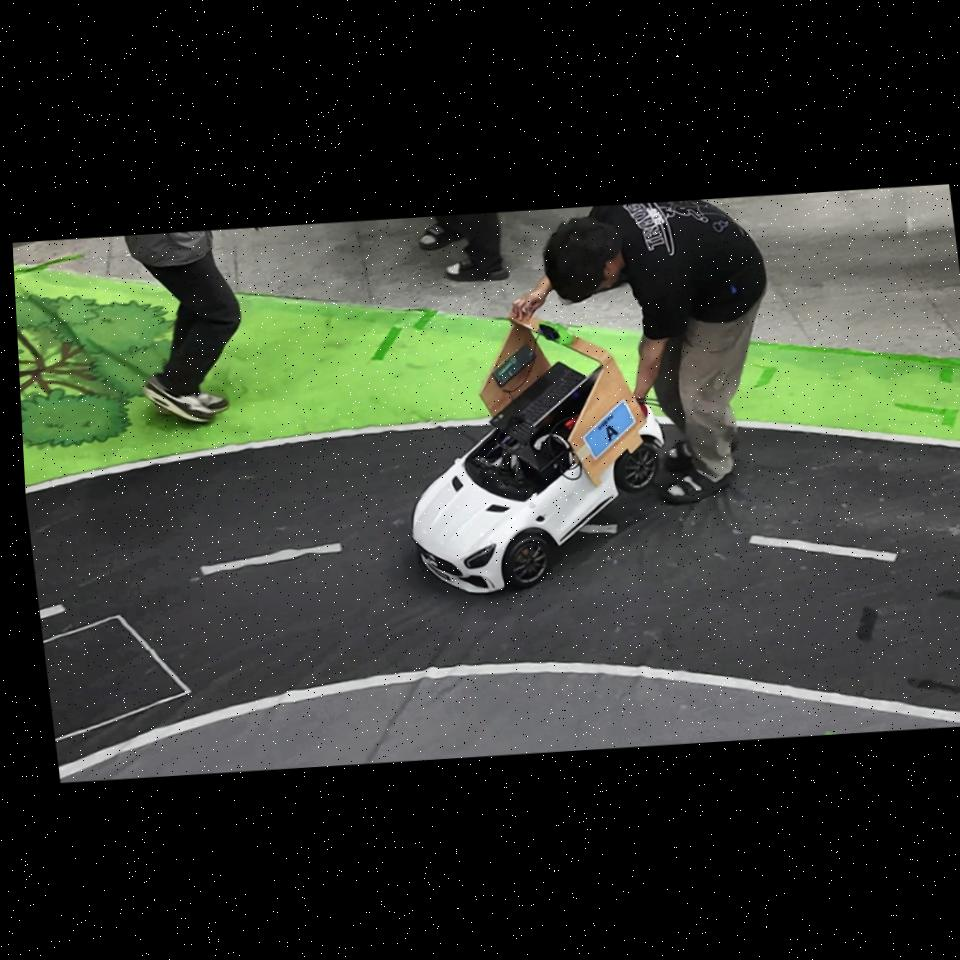broken_line: (200, 542, 343, 576), (749, 535, 898, 562), (40, 604, 66, 620), (579, 524, 618, 533)
